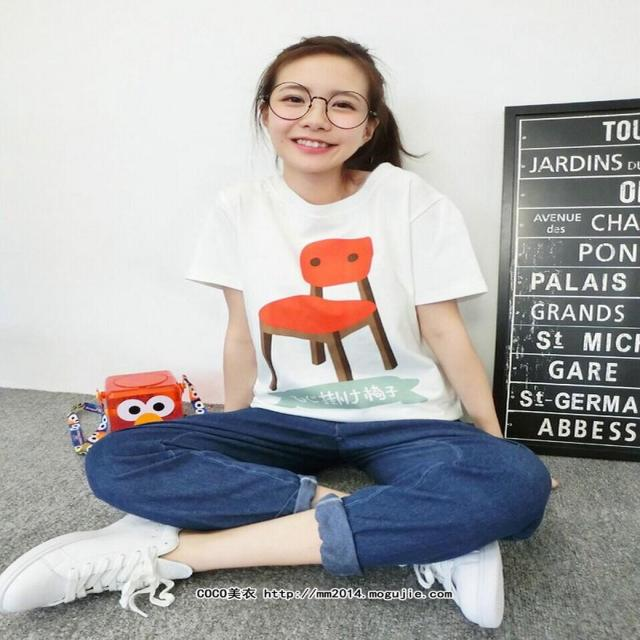short sleeve top: (185, 162, 490, 424)
trousers: (85, 396, 552, 578)
